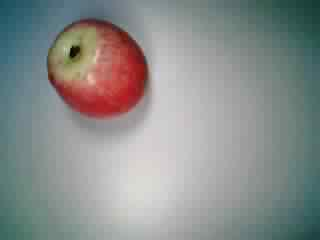apple: (44, 18, 150, 117)
